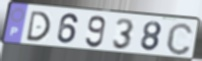3: (111, 18, 136, 51)
6: (56, 12, 79, 47)
8: (140, 20, 163, 52)
9: (85, 15, 107, 48)
C: (165, 21, 194, 56)
D: (25, 10, 52, 42)
